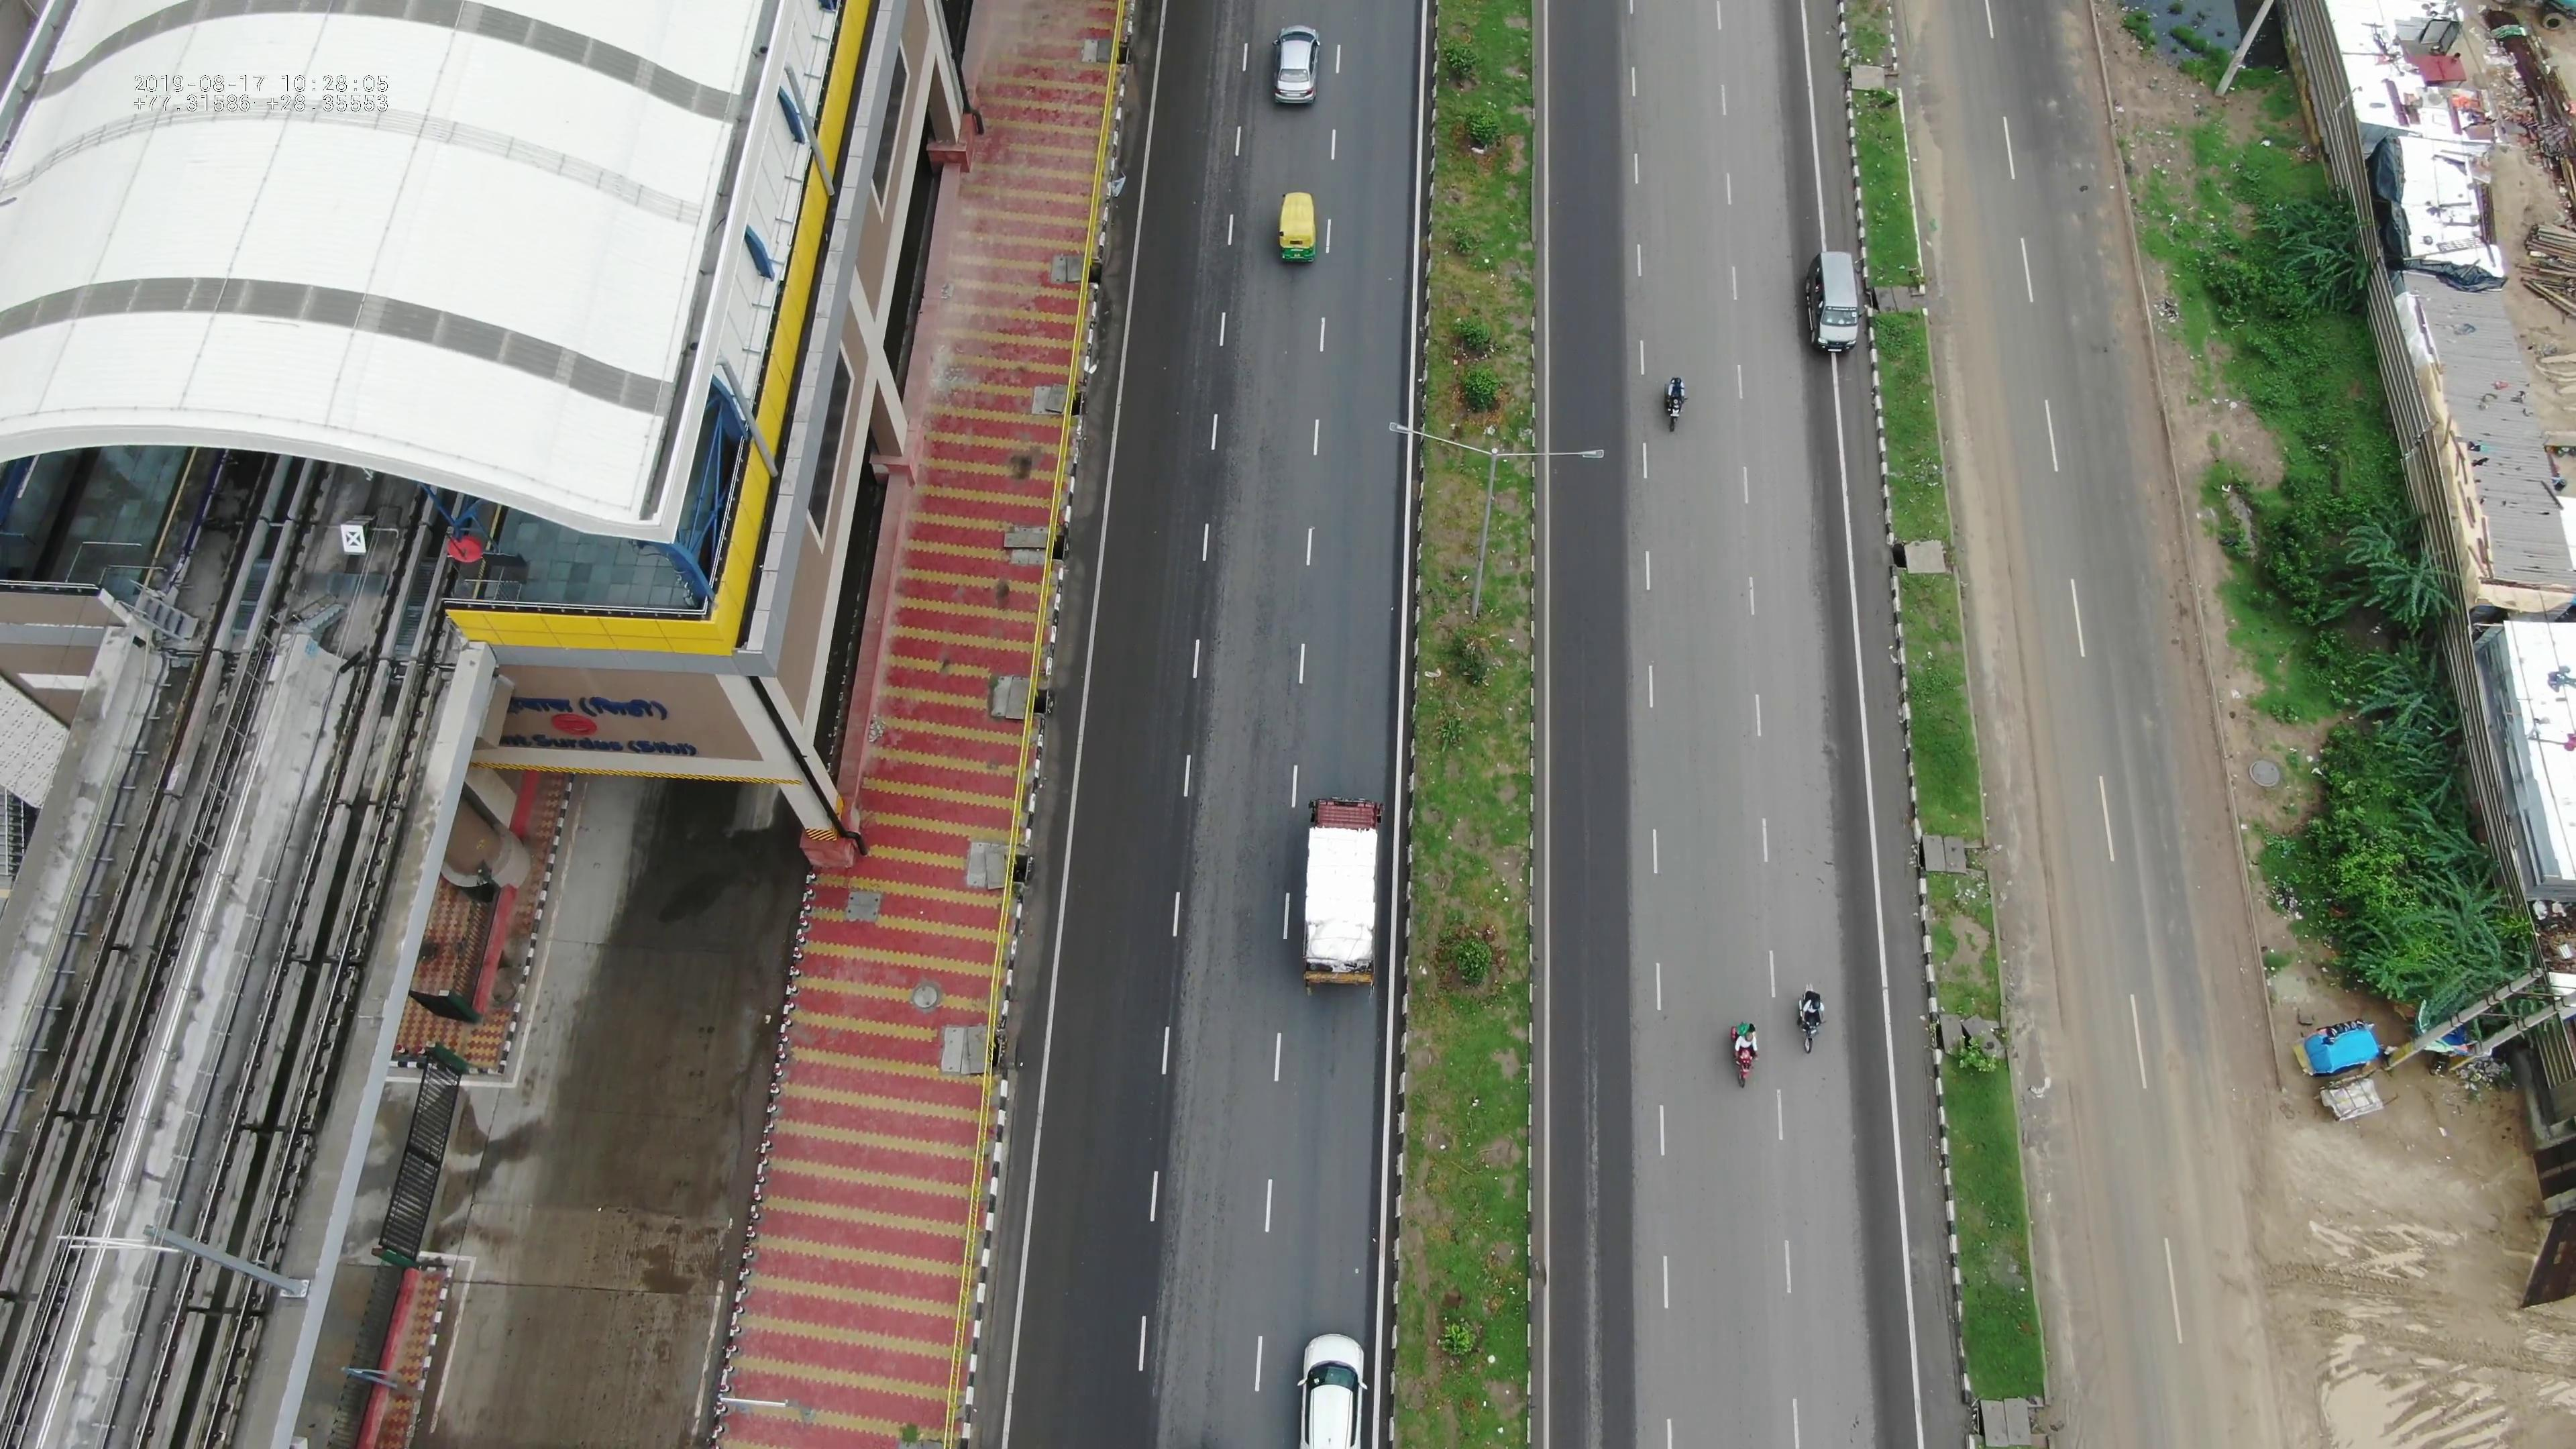Muddy_road: (2019, 1054, 2128, 1421), (1967, 695, 2079, 1021), (1936, 419, 2052, 672)
Potholes: (2051, 16, 2120, 327)
Waterlogging: (1897, 78, 1966, 308)
